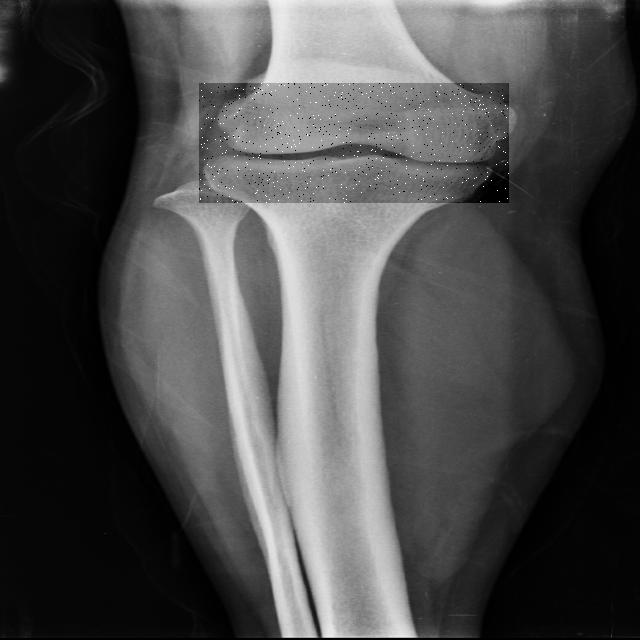normal: (199, 83, 509, 203)
